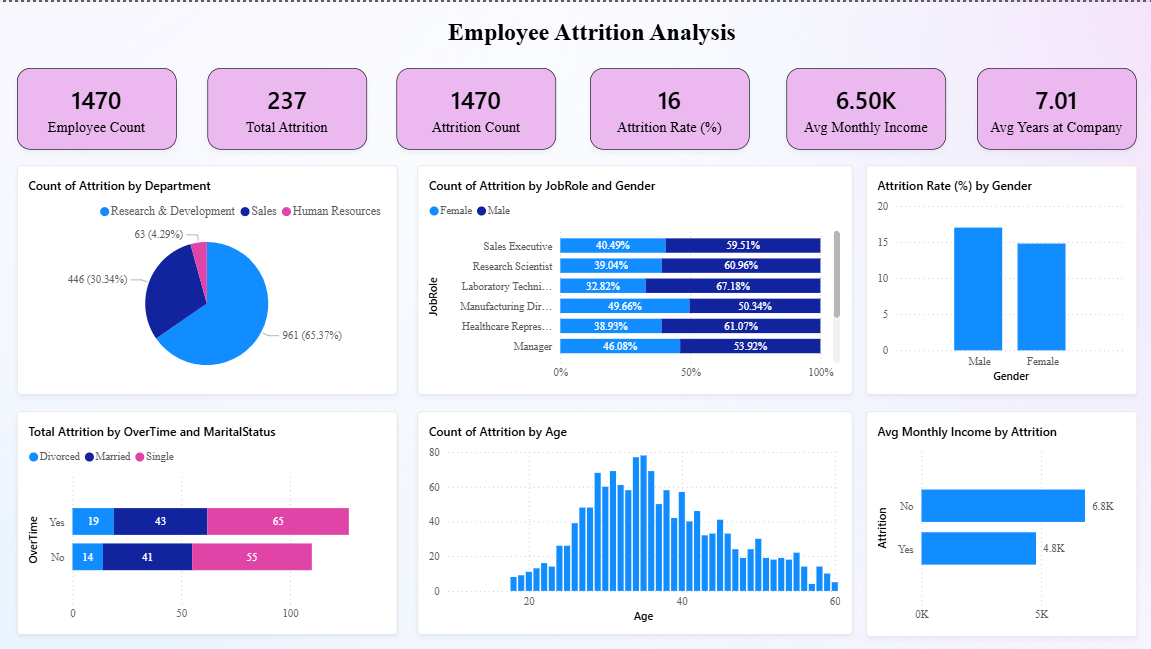

What the dashboard file says about the page in this screenshot:
{"tool":"powerbi","page":{"name":"Page 1","canvas":[1280,720],"ordinal":0},"visuals":[{"type":"card","fields":{"Values":["Employee_attrition.Total Attrition"]},"box":[231.7,72.7,177.2,90.9],"z":0},{"type":"card","fields":{"Values":["Employee_attrition.Employee Count"]},"box":[19.7,72.7,177.2,90.9],"z":1000},{"type":"card","fields":{"Values":["Employee_attrition.Attrition Count"]},"box":[442.1,72.7,177.2,90.9],"z":2000},{"type":"card","fields":{"Values":["Employee_attrition.Attrition Rate (%)"]},"box":[657.2,72.7,177.2,90.9],"z":3000},{"type":"card","fields":{"Values":["Employee_attrition.Avg Years at Company"]},"box":[1087.2,72.7,177.2,90.9],"z":4000},{"type":"card","fields":{"Values":["Employee_attrition.Avg Monthly Income"]},"box":[875.2,72.7,177.2,90.9],"z":5000},{"type":"pieChart","fields":{"Category":["Employee_attrition.Department"],"Y":["CountNonNull(Employee_attrition.Attrition)"]},"box":[19.7,181.7,422.5,254.4],"z":6000},{"type":"barChart","fields":{"Y":["Employee_attrition.Total Attrition"],"Category":["Employee_attrition.OverTime"],"Series":["Employee_attrition.MaritalStatus"]},"box":[19.7,455.8,422.5,248.3],"z":7000},{"type":"hundredPercentStackedBarChart","fields":{"Category":["Employee_attrition.JobRole"],"Y":["CountNonNull(Employee_attrition.Attrition)"],"Series":["Employee_attrition.Gender"]},"box":[464.9,181.7,483,254.4],"z":8000},{"type":"clusteredColumnChart","fields":{"Category":["Employee_attrition.Age"],"Y":["CountNonNull(Employee_attrition.Attrition)"]},"box":[464.9,455.8,483,248.3],"z":9000},{"type":"clusteredColumnChart","fields":{"Category":["Employee_attrition.Gender"],"Y":["Employee_attrition.Attrition Rate (%)"]},"box":[963,181.7,301.3,254.4],"z":10000},{"type":"barChart","fields":{"Category":["Employee_attrition.Attrition"],"Y":["Employee_attrition.Avg Monthly Income"]},"box":[963,455.8,301.3,249.8],"z":11000},{"type":"textbox","box":[477,12.1,371,48.5],"z":11001}]}

Visuals, with their boxes in screenshot pixels (x1, y1, x2, y2), scaled from the page's 1280x720 canvas onto the 1151x649 screenshot:
card - Employee_attrition.Total Attrition: l=208, t=66, r=368, b=147
card - Employee_attrition.Employee Count: l=18, t=66, r=177, b=147
card - Employee_attrition.Attrition Count: l=398, t=66, r=557, b=147
card - Employee_attrition.Attrition Rate (%): l=591, t=66, r=750, b=147
card - Employee_attrition.Avg Years at Company: l=978, t=66, r=1137, b=147
card - Employee_attrition.Avg Monthly Income: l=787, t=66, r=946, b=147
pieChart - Employee_attrition.Department x CountNonNull(Employee_attrition.Attrition): l=18, t=164, r=398, b=393
barChart - Employee_attrition.Total Attrition x Employee_attrition.OverTime: l=18, t=411, r=398, b=635
hundredPercentStackedBarChart - Employee_attrition.JobRole x CountNonNull(Employee_attrition.Attrition): l=418, t=164, r=852, b=393
clusteredColumnChart - Employee_attrition.Age x CountNonNull(Employee_attrition.Attrition): l=418, t=411, r=852, b=635
clusteredColumnChart - Employee_attrition.Gender x Employee_attrition.Attrition Rate (%): l=866, t=164, r=1137, b=393
barChart - Employee_attrition.Attrition x Employee_attrition.Avg Monthly Income: l=866, t=411, r=1137, b=636
textbox: l=429, t=11, r=763, b=55
